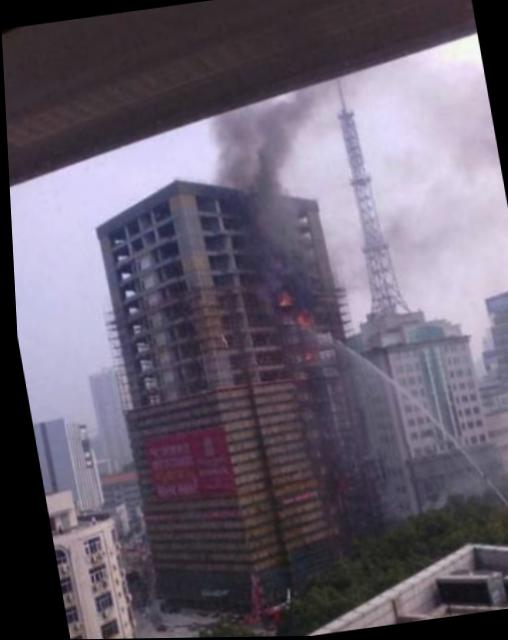fire: (268, 281, 322, 369)
